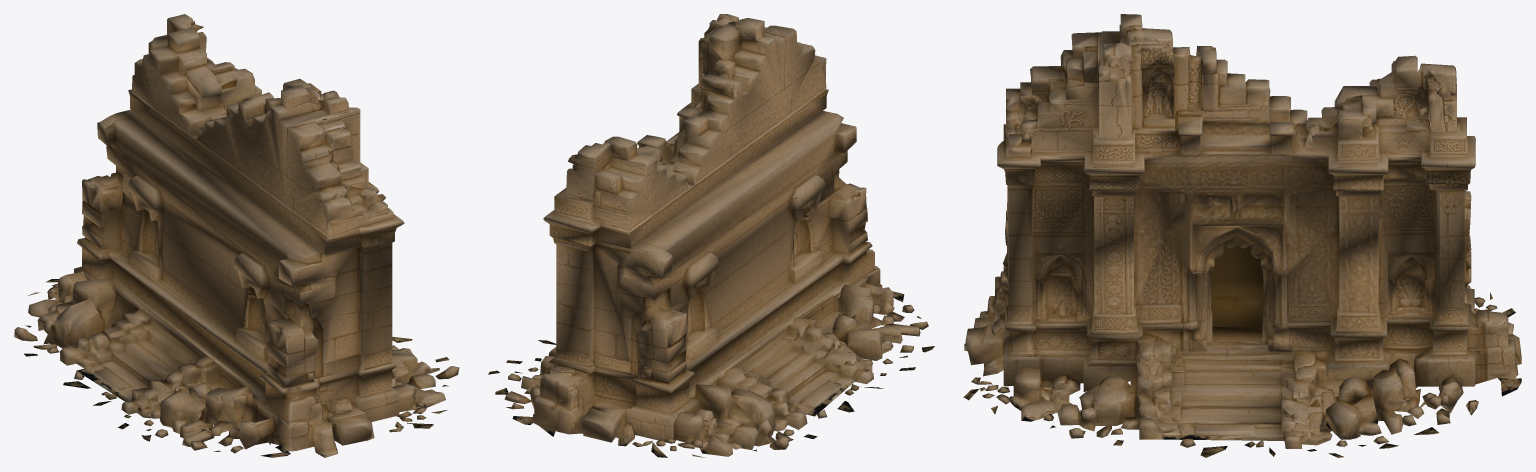
The model's file is large+ruins (3).glb.
The picture shows the model from 3 angles, left to right: view 1: azimuth 30°, elevation 25°; view 2: azimuth 150°, elevation 25°; view 3: azimuth 270°, elevation 25°; orthographic projection. The views are drawn at different scales.
Visible parts, largest first — view 1: tripo_node_9ceb5ec4-f59b-4e91-85d9-771bd6b140b1; view 2: tripo_node_9ceb5ec4-f59b-4e91-85d9-771bd6b140b1; view 3: tripo_node_9ceb5ec4-f59b-4e91-85d9-771bd6b140b1.
Boxes of the visible parts, bbox=[...] form: tripo_node_9ceb5ec4-f59b-4e91-85d9-771bd6b140b1: bbox=[14, 14, 459, 457]; tripo_node_9ceb5ec4-f59b-4e91-85d9-771bd6b140b1: bbox=[488, 14, 934, 457]; tripo_node_9ceb5ec4-f59b-4e91-85d9-771bd6b140b1: bbox=[963, 14, 1521, 457].
Size of the model in its own units: 0.7637 by 0.7246 by 0.998.
Materials: 1 (1 with a texture image).
